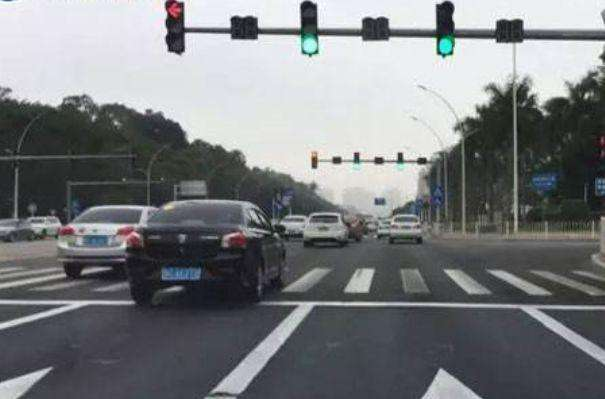green: (434, 1, 457, 61), (297, 1, 319, 58)
red: (162, 1, 186, 56)
